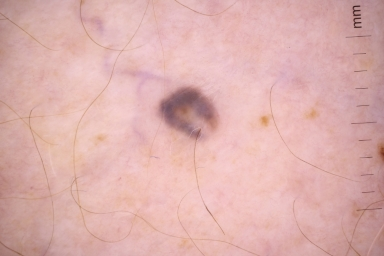melanoma: (159, 85, 220, 139)
